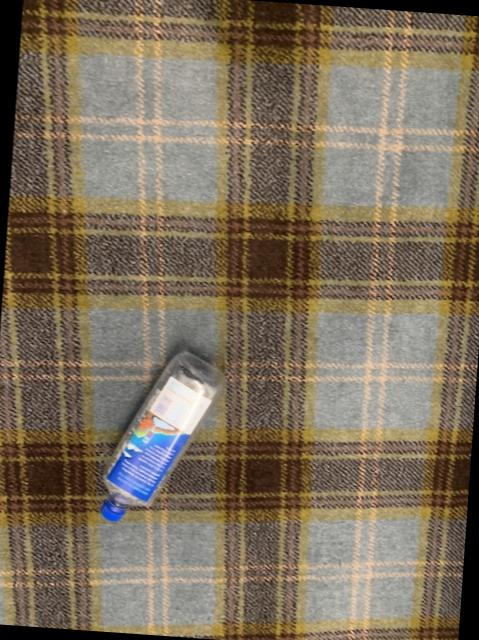plastic: (101, 352, 224, 522)
